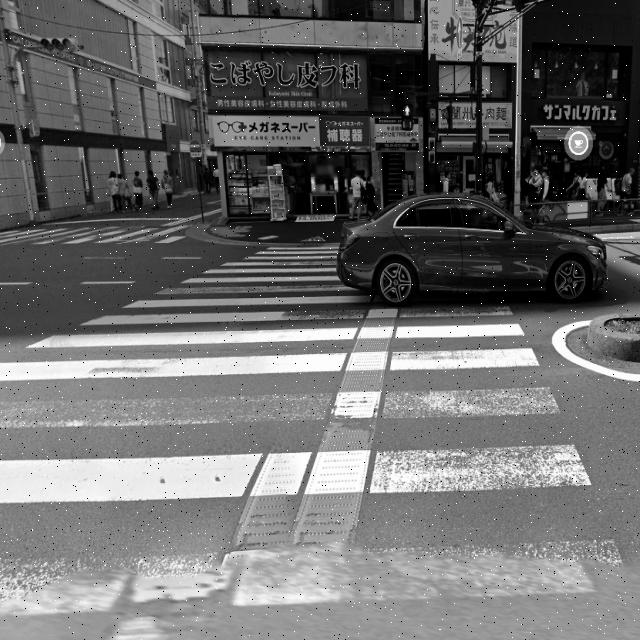traffic-light: (399, 100, 414, 130)
